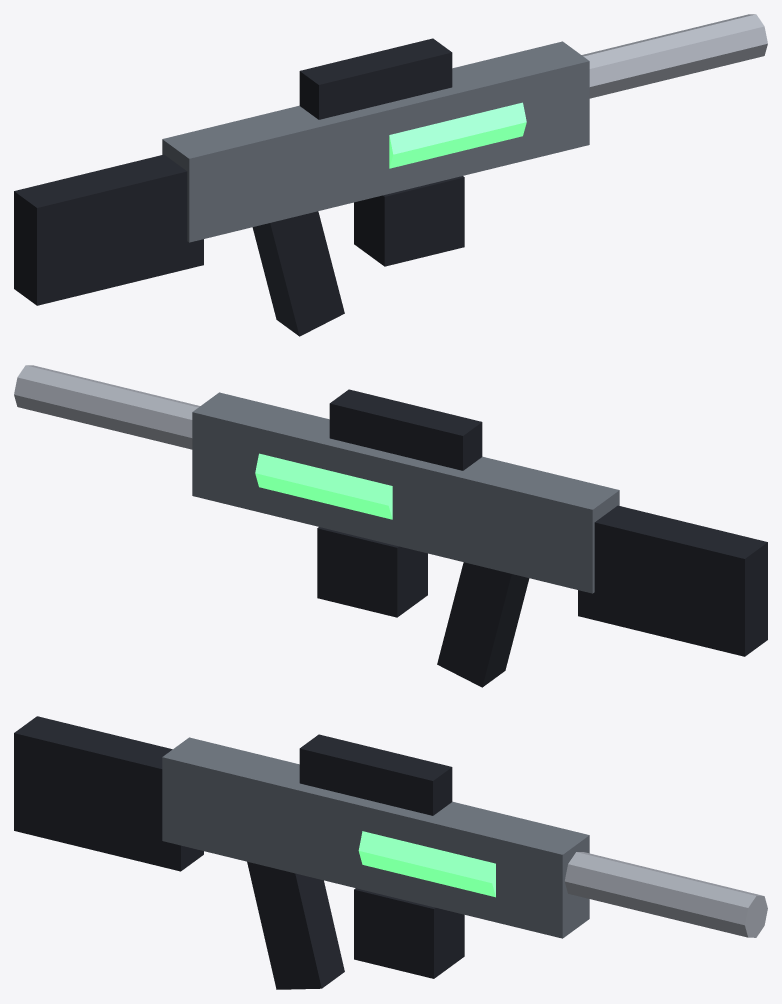
Rendered from plasma_rifle.glb.
The picture shows the model from 3 angles, top to bottom: view 1: azimuth 30°, elevation 25°; view 2: azimuth 150°, elevation 25°; view 3: azimuth 330°, elevation 25°; orthographic projection.
Parts seen in each view (by area): view 1: plasma_rifle; view 2: plasma_rifle; view 3: plasma_rifle.
Boxes of the visible parts, x1=… form: plasma_rifle: x1=14, y1=14, x2=767, y2=336; plasma_rifle: x1=14, y1=365, x2=767, y2=687; plasma_rifle: x1=14, y1=716, x2=767, y2=989.
Size of the model in its own units: 1.09 by 0.3509 by 0.09.
